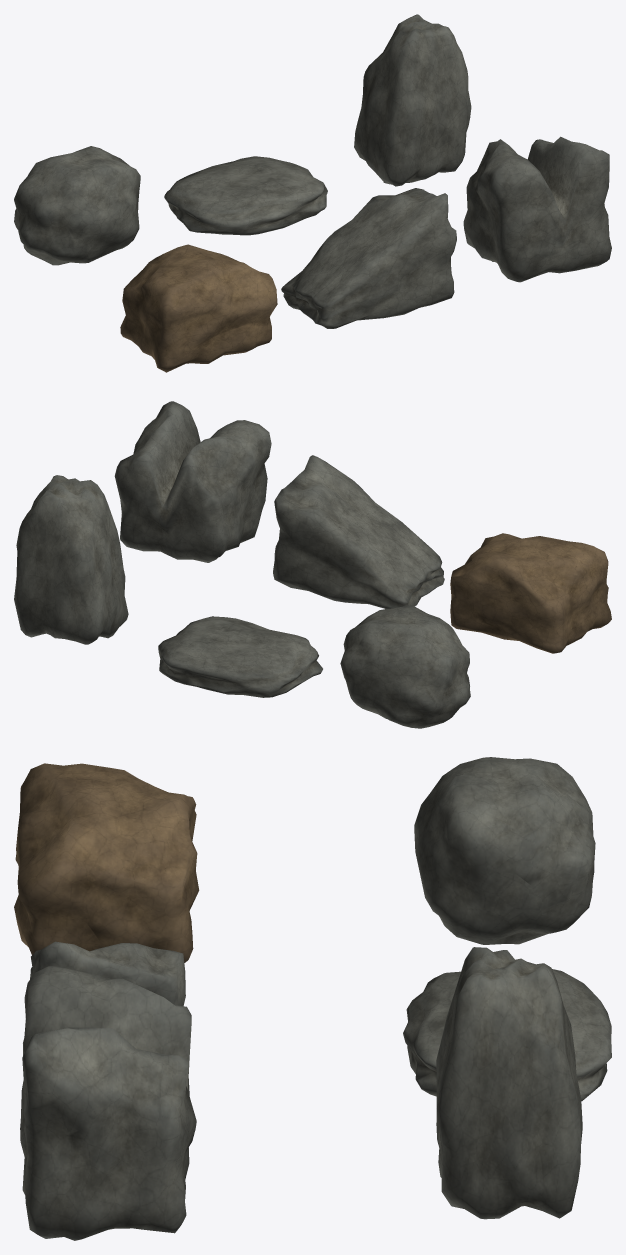
File: concept_rocks_01_06_set.glb
3 renders of one model, top to bottom at view 1: azimuth 30°, elevation 25°; view 2: azimuth 150°, elevation 25°; view 3: azimuth 270°, elevation 25°, orthographic. The views are drawn at different scales.
Parts seen in each view (by area): view 1: Rock_06, Rock_05, Rock_03, Rock_04, Rock_01, Rock_02; view 2: Rock_06, Rock_05, Rock_03, Rock_04, Rock_01, Rock_02; view 3: Rock_06, Rock_03, Rock_04, Rock_01, Rock_02, Rock_05.
Part boxes in pixels (x1,y1,x2,y2): Rock_06: (463,136,611,282); Rock_05: (281,188,456,328); Rock_03: (354,14,471,186); Rock_04: (120,244,277,372); Rock_01: (14,146,140,265); Rock_02: (164,156,327,235); Rock_06: (114,401,271,562); Rock_05: (273,455,444,608); Rock_03: (14,475,128,644); Rock_04: (450,533,611,653); Rock_01: (340,605,470,728); Rock_02: (158,616,322,697); Rock_06: (20,966,196,1240); Rock_03: (436,947,582,1219); Rock_04: (14,763,199,962); Rock_01: (414,757,595,944); Rock_02: (403,969,611,1101); Rock_05: (30,941,185,1006).
Bounding box in the file's own units: 8.7 × 2.76 × 5.96.
Materials: 1 (1 with a texture image).
